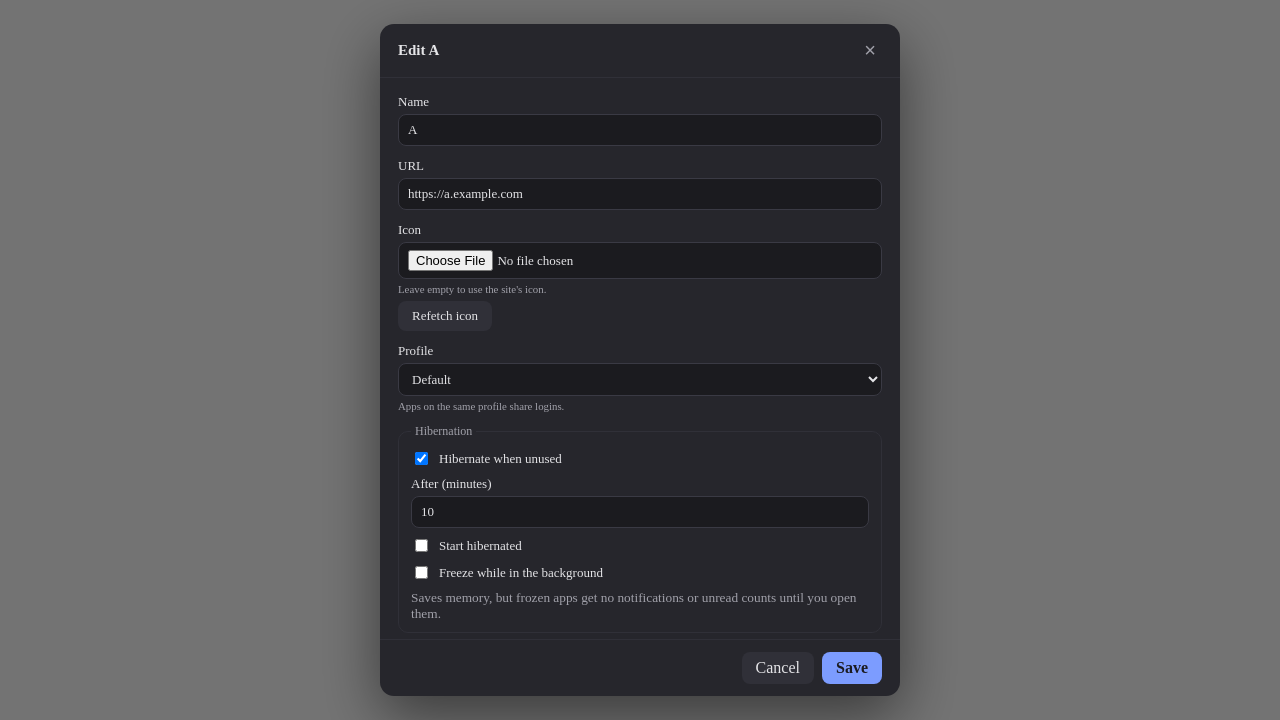
Test case: refetch failures are shown
Click the button "Refetch icon" at (445, 316), box left=398, top=301, right=492, bottom=331
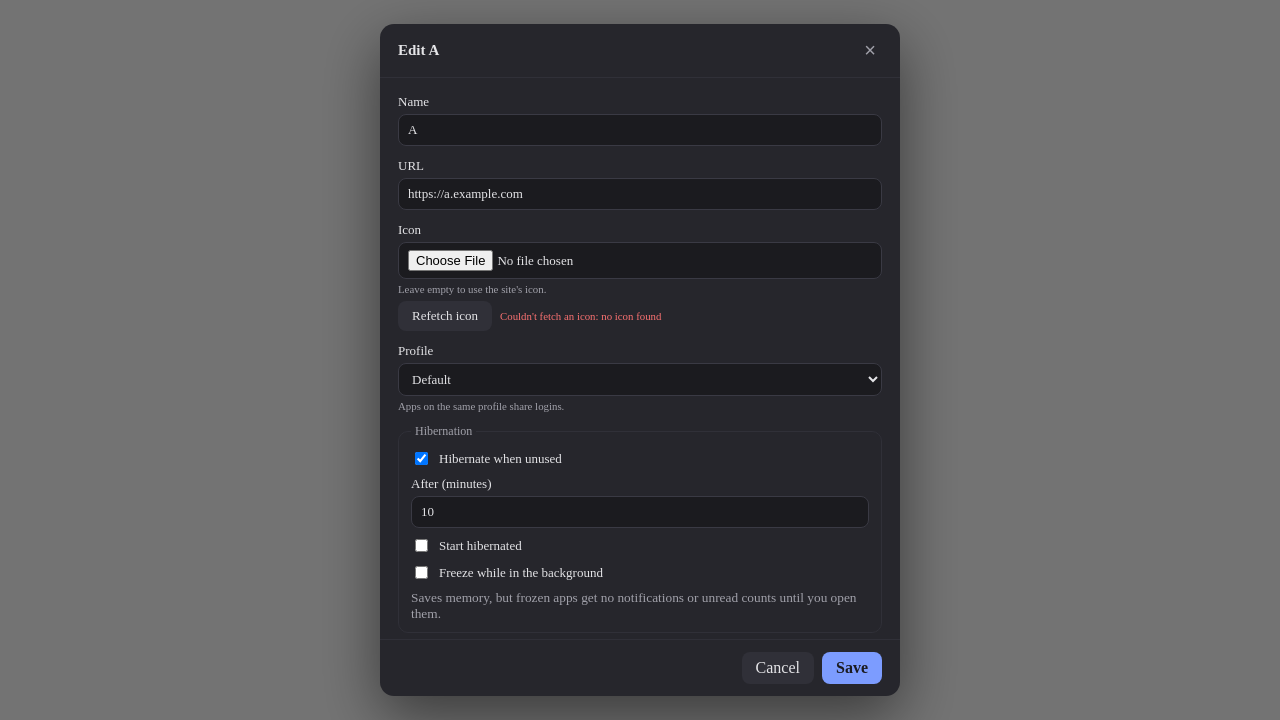
Check: the message reads "Couldn't fetch an icon: no icon found", box left=500, top=310, right=661, bottom=322
